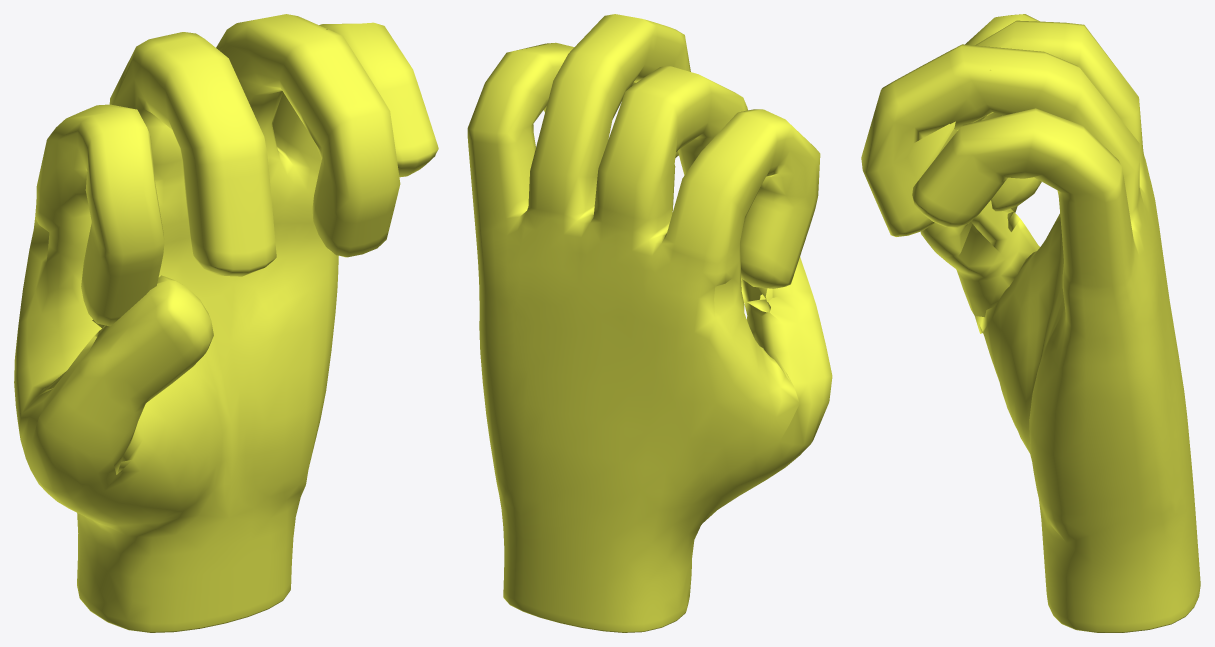
3 views of the same model, side by side, from view 1: azimuth 30°, elevation 25°; view 2: azimuth 150°, elevation 25°; view 3: azimuth 270°, elevation 25° (orthographic). The views are drawn at different scales.
Visible parts, largest first — view 1: uploads_files_810024_Hand; view 2: uploads_files_810024_Hand; view 3: uploads_files_810024_Hand.
Boxes of the visible parts, box(x1,y1,x2,y2) form: uploads_files_810024_Hand: box(14, 14, 438, 632); uploads_files_810024_Hand: box(467, 14, 832, 632); uploads_files_810024_Hand: box(861, 14, 1200, 632).
Size of the model in its own units: 1.42 by 2.26 by 1.23.
